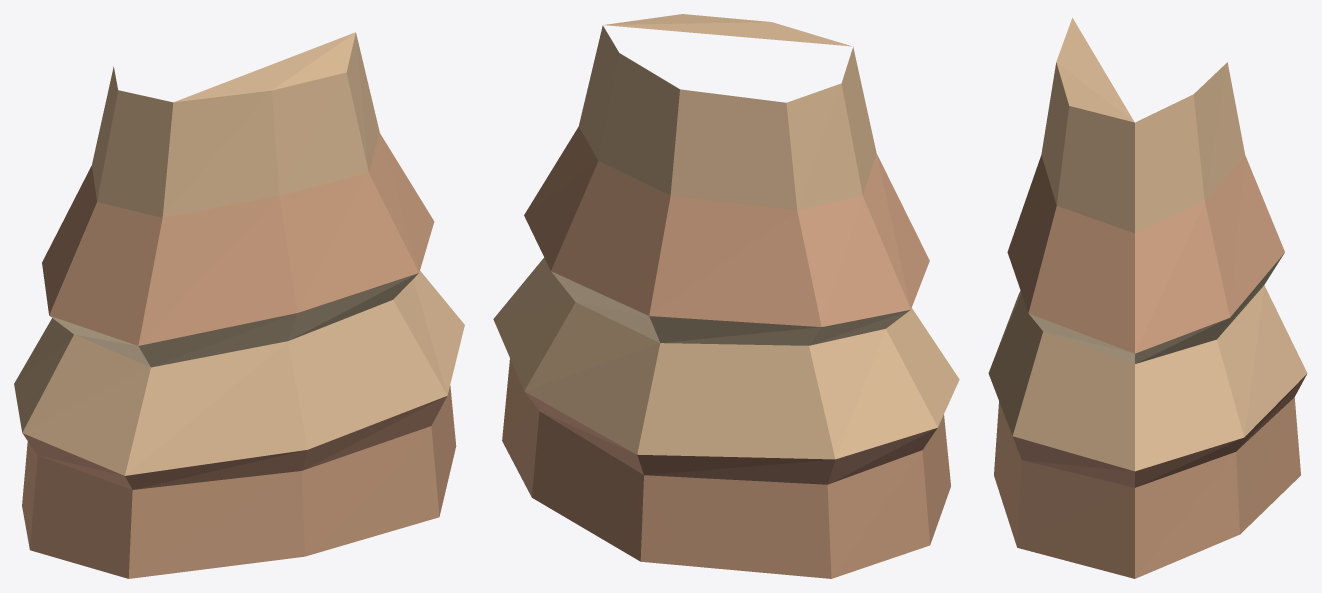
The picture shows the model from 3 angles, left to right: view 1: azimuth 30°, elevation 25°; view 2: azimuth 150°, elevation 25°; view 3: azimuth 270°, elevation 25°; orthographic projection. The views are drawn at different scales.
Size of the model in its own units: 29.16 by 28.39 by 19.44.
